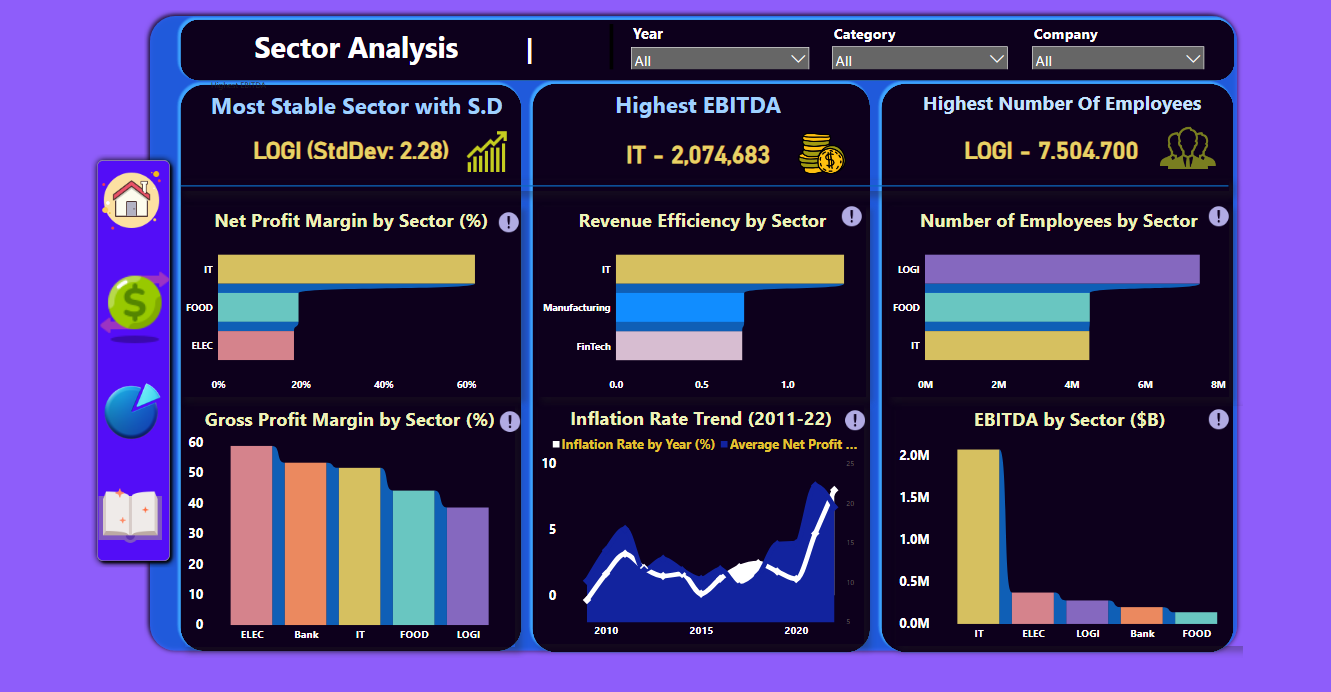

The page's visual inventory and layout, read from the dashboard file:
{"tool":"powerbi","page":{"name":"Sector Analysis 🎂📈","canvas":[1920,1080],"ordinal":2},"visuals":[{"type":"shape","box":[87.6,0,1831.9,1078],"z":500},{"type":"shape","box":[1307.7,112.5,605,966.5],"z":1000},{"type":"columnChart","title":"EBITDA by Sector ($B)","fields":{"Y":["Sum(Financial Statements.EBITDA)"],"Category":["Financial Statements.Category"]},"box":[1340.9,660.3,579.1,400.2],"z":2000},{"type":"shape","box":[726.7,112.5,581,966.5],"z":3000},{"type":"shape","box":[140.2,114.4,586.5,962.8],"z":4000},{"type":"shape","box":[0,240.3,141.6,688.6],"z":5000},{"type":"shape","box":[140.6,6.1,1774.9,120.2],"z":6000},{"type":"slicer","fields":{"Values":["Financial Statements.Year"]},"box":[889.3,16.1,317.2,82.3],"z":7000},{"type":"slicer","fields":{"Values":["Financial Statements.Category"]},"box":[1224.5,16.1,313.2,82.3],"z":8000},{"type":"image","box":[0,242.4,135.2,150.2],"z":9000},{"type":"image","box":[0,768,130.9,148],"z":10000},{"type":"image","box":[0,388.3,145.9,197.4],"z":11000},{"type":"image","box":[10.7,581.4,113.7,178.1],"z":12000},{"type":"shape","box":[834.1,22.7,68.1,76.4],"z":13000},{"type":"slicer","fields":{"Values":["Financial Statements.Company "]},"box":[1557.8,16.1,307.1,82.3],"z":14000},{"type":"textbox","box":[774.4,126.6,474.1,96.5],"z":15000},{"type":"textbox","box":[156.6,23.6,821.6,103],"z":17000},{"type":"textbox","box":[1381.5,126.6,514.9,81.5],"z":21000},{"type":"lineChart","title":"Inflation Rate Trend (2011-22)  ","fields":{"Category":["Financial Statements.Year"],"Y":["Financial Statements.Inflation Rate by Year (%)"],"Y2":["Financial Statements.Average Net Profit Margin by Sector (%)"]},"box":[745.2,657.9,543.8,398.3],"z":22000},{"type":"image","box":[1850.3,656.2,59.1,50.9],"z":23000},{"type":"columnChart","title":"Gross Profit Margin by Sector (%)","fields":{"Category":["Financial Statements.Category"],"Y":["Financial Statements.Gross Profit Margin(%)"]},"box":[156.8,660.3,549.6,402.1],"z":24000},{"type":"image","box":[667.7,660.3,59,51.6],"z":25000},{"type":"image","box":[1239.7,657.9,67.1,51.5],"z":26000},{"type":"barChart","title":" Net Profit Margin by Sector (%)","fields":{"Category":["Financial Statements.Category"],"Y":["Sum(Financial Statements.Net Profit Margin)"]},"box":[151.2,328.3,564.4,317.2],"z":27000},{"type":"barChart","title":"Number of Employees by Sector","fields":{"Category":["Financial Statements.Category"],"Y":["Sum(Financial Statements.Number of Employees)"]},"box":[1329.8,328.3,566.2,317.2],"z":28000},{"type":"barChart","title":"Revenue Efficiency by Sector","fields":{"Category":["Financial Statements.Category"],"Y":["Financial Statements.Revenue_per_Employee"]},"box":[746.5,328.2,544.9,317.5],"z":29000},{"type":"shape","box":[150.2,283.2,1746.2,19.3],"z":30000},{"type":"card","fields":{"Values":["Financial Statements.Highest Sector by Employees"]},"box":[1291.2,208.1,617.6,44.8],"z":31000},{"type":"card","fields":{"Values":["Financial Statements.Highest Sector by EBITDA"]},"box":[774.3,208.1,474.4,58.2],"z":32000},{"type":"card","fields":{"Values":["Financial Statements.Most Stable Sector with StdDev"]},"box":[194.8,208.7,475.8,44.5],"z":33000},{"type":"image","box":[666.3,328.1,59.1,50.9],"z":34000},{"type":"image","box":[1238.9,317.9,59.1,50.9],"z":35000},{"type":"image","box":[1850.3,317.9,59.1,50.9],"z":36000},{"type":"image","box":[1776.8,179,102.9,102.9],"z":37000},{"type":"image","box":[1168.1,188,100.7,98.5],"z":38000},{"type":"image","box":[619.9,194.7,78.3,82.8],"z":39000}]}

Visuals, with their boxes on the page's 1920x1080 design canvas (x1, y1, x2, y2). These are canvas units, not pixel positions in the 1331x692 screenshot, which may show the page scaled, cropped or inside an application window:
shape: bbox=[88, 0, 1920, 1078]
shape: bbox=[1308, 112, 1913, 1079]
"EBITDA by Sector ($B)" columnChart: bbox=[1341, 660, 1920, 1060]
shape: bbox=[727, 112, 1308, 1079]
shape: bbox=[140, 114, 727, 1077]
shape: bbox=[0, 240, 142, 929]
shape: bbox=[141, 6, 1916, 126]
slicer - Financial Statements.Year: bbox=[889, 16, 1206, 98]
slicer - Financial Statements.Category: bbox=[1224, 16, 1538, 98]
image: bbox=[0, 242, 135, 393]
image: bbox=[0, 768, 131, 916]
image: bbox=[0, 388, 146, 586]
image: bbox=[11, 581, 124, 760]
shape: bbox=[834, 23, 902, 99]
slicer - Financial Statements.Company : bbox=[1558, 16, 1865, 98]
textbox: bbox=[774, 127, 1248, 223]
textbox: bbox=[157, 24, 978, 127]
textbox: bbox=[1382, 127, 1896, 208]
"Inflation Rate Trend (2011-22)  " lineChart: bbox=[745, 658, 1289, 1056]
image: bbox=[1850, 656, 1909, 707]
"Gross Profit Margin by Sector (%)" columnChart: bbox=[157, 660, 706, 1062]
image: bbox=[668, 660, 727, 712]
image: bbox=[1240, 658, 1307, 709]
" Net Profit Margin by Sector (%)" barChart: bbox=[151, 328, 716, 646]
"Number of Employees by Sector" barChart: bbox=[1330, 328, 1896, 646]
"Revenue Efficiency by Sector" barChart: bbox=[746, 328, 1291, 646]
shape: bbox=[150, 283, 1896, 302]
card - Financial Statements.Highest Sector by Employees: bbox=[1291, 208, 1909, 253]
card - Financial Statements.Highest Sector by EBITDA: bbox=[774, 208, 1249, 266]
card - Financial Statements.Most Stable Sector with StdDev: bbox=[195, 209, 671, 253]
image: bbox=[666, 328, 725, 379]
image: bbox=[1239, 318, 1298, 369]
image: bbox=[1850, 318, 1909, 369]
image: bbox=[1777, 179, 1880, 282]
image: bbox=[1168, 188, 1269, 286]
image: bbox=[620, 195, 698, 278]
